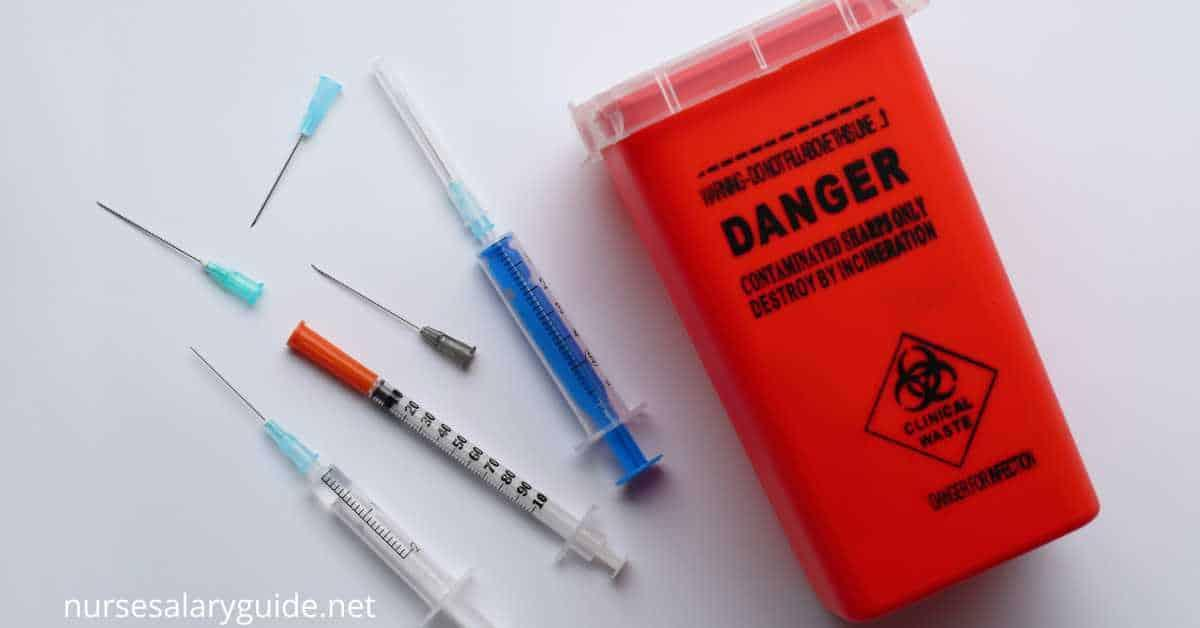Syringe: (370, 58, 661, 484), (287, 321, 625, 577), (191, 348, 491, 627)
